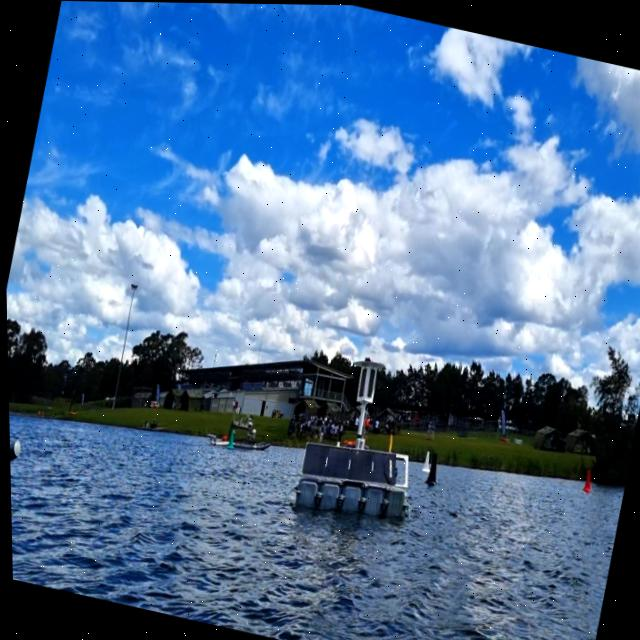led: (361, 366, 376, 399), (354, 366, 368, 397)
